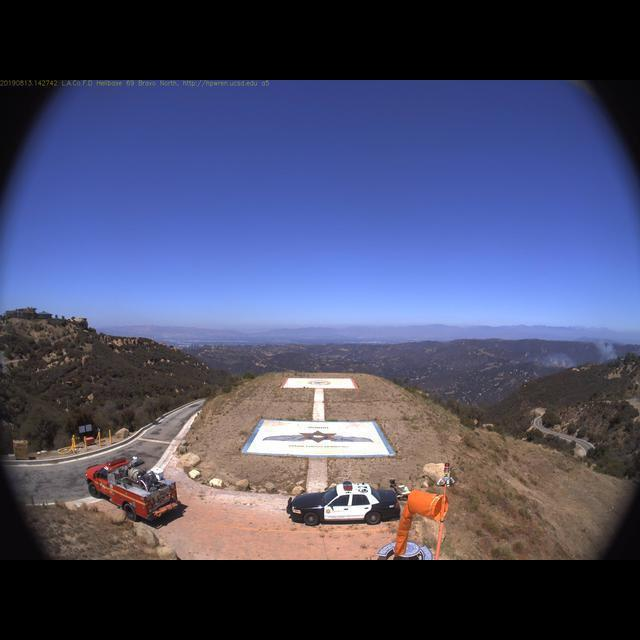Smoke: (534, 332, 621, 371)
